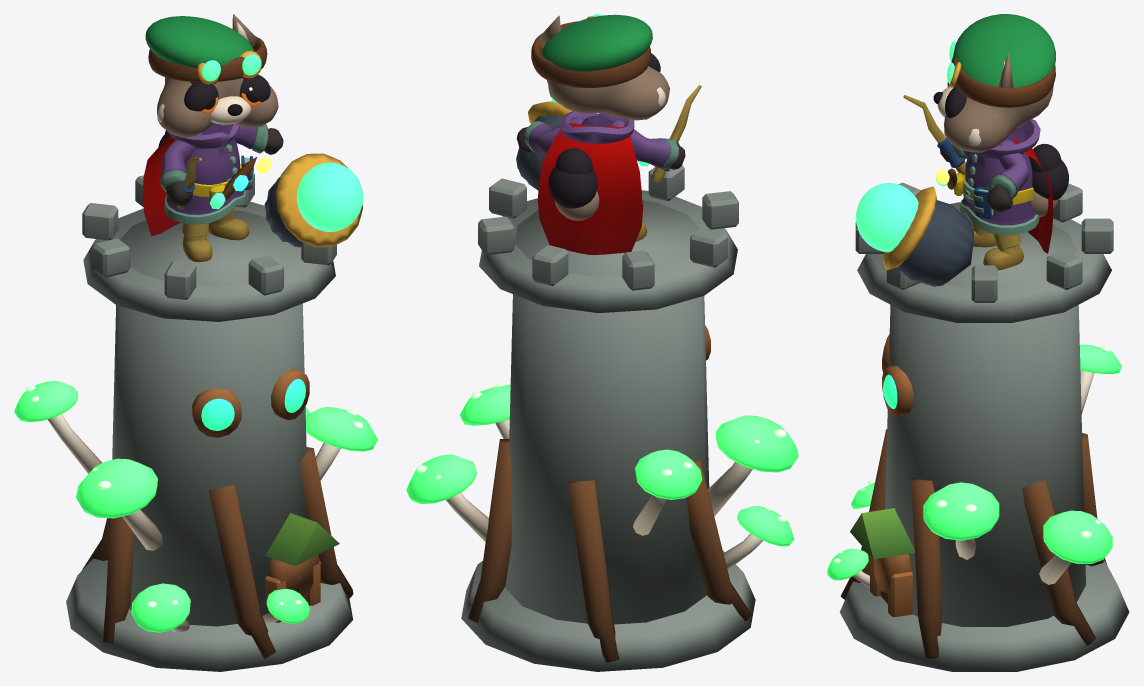
The model's file is tower_badger_t2.glb.
3 views of the same model, side by side, from view 1: azimuth 30°, elevation 25°; view 2: azimuth 150°, elevation 25°; view 3: azimuth 270°, elevation 25° (orthographic). The views are drawn at different scales.
Visible parts, largest first — view 1: CustomTowerBase_badger_t2, Mage_Body, NativeHat_RkBeret, RaccoonBrewCore, RkHead, RaccoonMortarCollar, Mage_Cape, NativeHat_RkBand, Mage_ArmRight, Mage_ArmLeft, Mage_LegRight, RaccoonMortarTube (+4 smaller); view 2: CustomTowerBase_badger_t2, Mage_Cape, NativeHat_RkBeret, RkHead, NativeHat_RkBand, Mage_Body, RaccoonTailSeg_3, Mage_ArmRight, Mage_ArmLeft, RaccoonMortarTube, RaccoonTailSeg_4, 1H_Wand; view 3: CustomTowerBase_badger_t2, NativeHat_RkBeret, Mage_Body, RaccoonMortarTube, RaccoonBrewCore, RkHead, NativeHat_RkBand, Mage_ArmLeft, RaccoonMortarCollar, Mage_LegLeft, RaccoonTailSeg_3, 1H_Wand (+3 smaller).
Part boxes in pixels (box(x1,y1,x2,y2)): CustomTowerBase_badger_t2: box(14, 172, 377, 671); Mage_Body: box(164, 122, 253, 224); NativeHat_RkBeret: box(145, 16, 254, 67); RaccoonBrewCore: box(296, 162, 363, 231); RkHead: box(157, 77, 278, 137); RaccoonMortarCollar: box(276, 153, 362, 247); Mage_Cape: box(142, 135, 180, 235); NativeHat_RkBand: box(148, 36, 267, 81); Mage_ArmRight: box(160, 133, 202, 205); Mage_ArmLeft: box(221, 124, 283, 154); Mage_LegRight: box(182, 223, 212, 262); RaccoonMortarTube: box(264, 177, 301, 247); CustomTowerBase_badger_t2: box(406, 165, 798, 671); Mage_Cape: box(537, 123, 642, 254); NativeHat_RkBeret: box(542, 14, 652, 71); RkHead: box(547, 66, 669, 120); NativeHat_RkBand: box(531, 21, 650, 88); Mage_Body: box(559, 111, 644, 210); RaccoonTailSeg_3: box(548, 167, 597, 208); Mage_ArmRight: box(611, 119, 685, 169); Mage_ArmLeft: box(516, 116, 584, 153); RaccoonMortarTube: box(516, 114, 562, 190); RaccoonTailSeg_4: box(555, 148, 592, 174); 1H_Wand: box(652, 85, 701, 182); CustomTowerBase_badger_t2: box(827, 182, 1129, 671); NativeHat_RkBeret: box(953, 14, 1055, 87); Mage_Body: box(953, 119, 1040, 235); RaccoonMortarTube: box(897, 200, 974, 286); RaccoonBrewCore: box(855, 183, 918, 252); RkHead: box(944, 85, 1053, 152); NativeHat_RkBand: box(951, 56, 1055, 107); Mage_ArmLeft: box(987, 139, 1029, 212); RaccoonMortarCollar: box(883, 186, 936, 270); Mage_LegLeft: box(983, 233, 1023, 270); RaccoonTailSeg_3: box(1032, 160, 1068, 200); 1H_Wand: box(903, 95, 965, 174).
Size of the model in its own units: 1.18 by 2.15 by 1.01.
24 materials, 3 textured.
